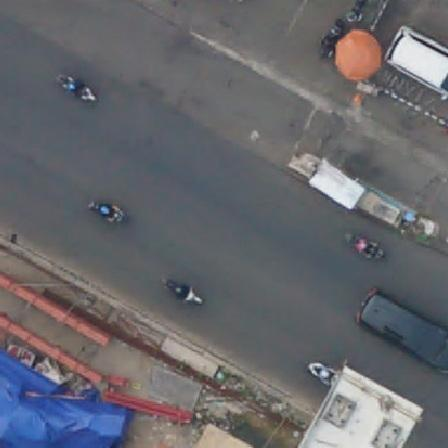Car: (357, 287, 448, 383), (386, 29, 448, 104)
Motorcycle: (342, 227, 389, 263), (56, 72, 100, 105), (315, 17, 348, 58), (163, 276, 206, 307), (88, 194, 129, 224), (343, 0, 372, 26), (308, 357, 333, 385)
